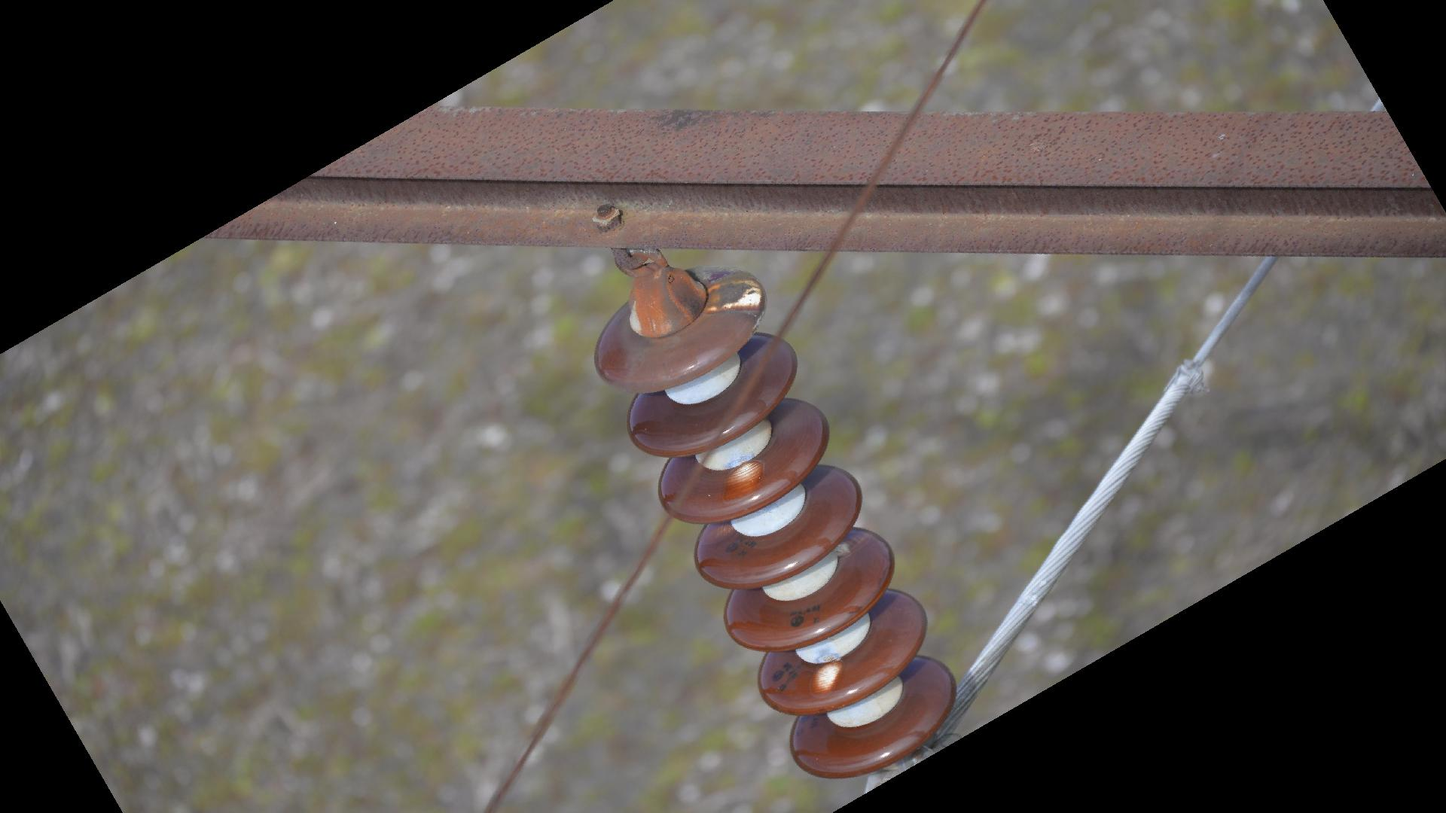insulator: (587, 257, 962, 786)
insulator_flashover: (700, 270, 766, 319), (721, 458, 766, 506), (805, 657, 846, 699)
